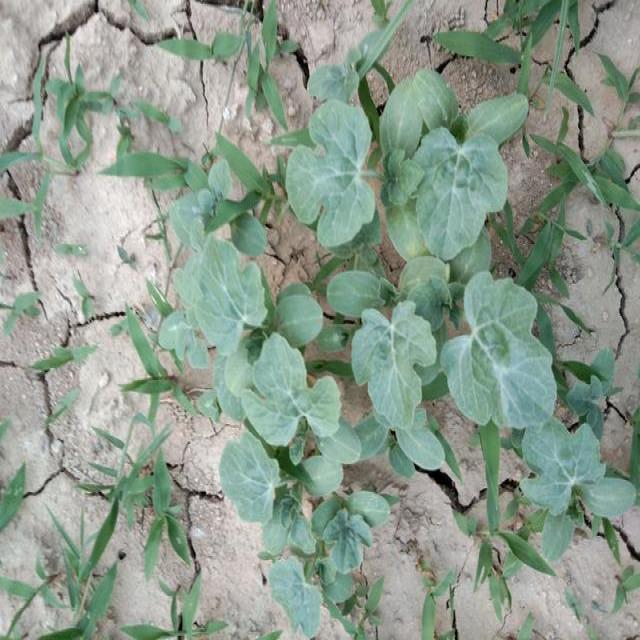weed: (174, 235, 380, 616), (187, 247, 552, 424), (305, 87, 511, 249), (505, 418, 639, 550), (346, 230, 444, 410), (433, 7, 596, 111), (126, 152, 283, 248), (78, 422, 181, 566), (450, 442, 540, 603), (159, 12, 292, 120), (26, 521, 123, 640), (19, 58, 94, 159), (538, 131, 632, 205), (308, 31, 421, 84), (118, 306, 168, 414), (126, 590, 203, 635), (592, 38, 640, 109), (574, 354, 624, 414), (2, 177, 50, 235), (30, 344, 106, 372), (416, 564, 444, 640), (610, 559, 640, 619), (55, 235, 96, 278), (66, 276, 98, 322), (0, 288, 34, 329), (602, 228, 640, 264), (46, 384, 80, 424), (6, 461, 26, 526), (564, 590, 586, 626), (114, 254, 142, 278)
